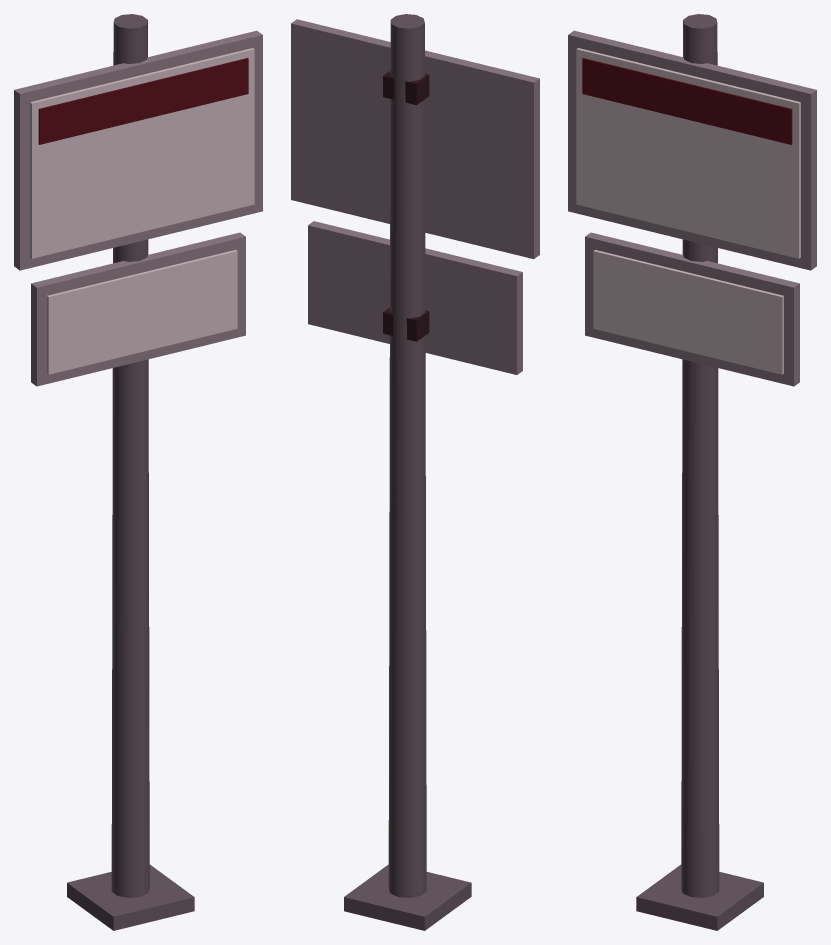
The model's file is SM_RouteSign_01.obj.
The picture shows the model from 3 angles, left to right: view 1: azimuth 30°, elevation 25°; view 2: azimuth 150°, elevation 25°; view 3: azimuth 330°, elevation 25°; orthographic projection.
Visible parts, largest first — view 1: plate_face, post, reroute_face, plate_main, route_bar, plate_reroute, foot_plate; view 2: plate_main, post, plate_reroute, foot_plate, bracket_u, bracket_l; view 3: plate_face, post, reroute_face, plate_main, route_bar, plate_reroute, foot_plate.
Part boxes in pixels (<box>): plate_face: <box>30,48,254,258</box>; post: <box>111,14,149,897</box>; reroute_face: <box>47,250,237,374</box>; plate_main: <box>14,30,262,270</box>; route_bar: <box>38,58,248,144</box>; plate_reroute: <box>31,232,245,386</box>; foot_plate: <box>67,864,194,930</box>; plate_main: <box>291,19,539,258</box>; post: <box>388,14,426,897</box>; plate_reroute: <box>308,221,522,374</box>; foot_plate: <box>344,864,471,930</box>; bracket_u: <box>383,71,429,105</box>; bracket_l: <box>383,307,429,341</box>; plate_face: <box>576,48,800,258</box>; post: <box>681,14,719,897</box>; reroute_face: <box>593,250,783,374</box>; plate_main: <box>568,30,816,270</box>; route_bar: <box>582,58,792,144</box>; plate_reroute: <box>585,232,799,386</box>; foot_plate: <box>636,864,763,930</box>.
Size of the model in its own units: 0.72 by 2.5 by 0.24.
